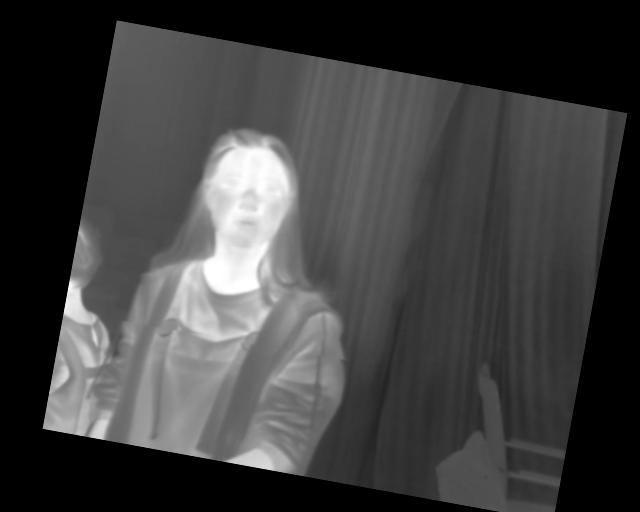face: (194, 121, 303, 254)
